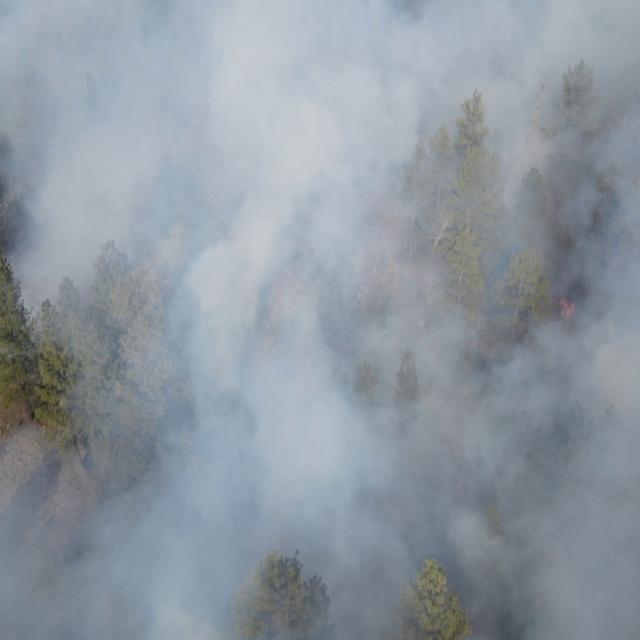fire: (551, 290, 580, 326)
smoke: (0, 0, 640, 640)
